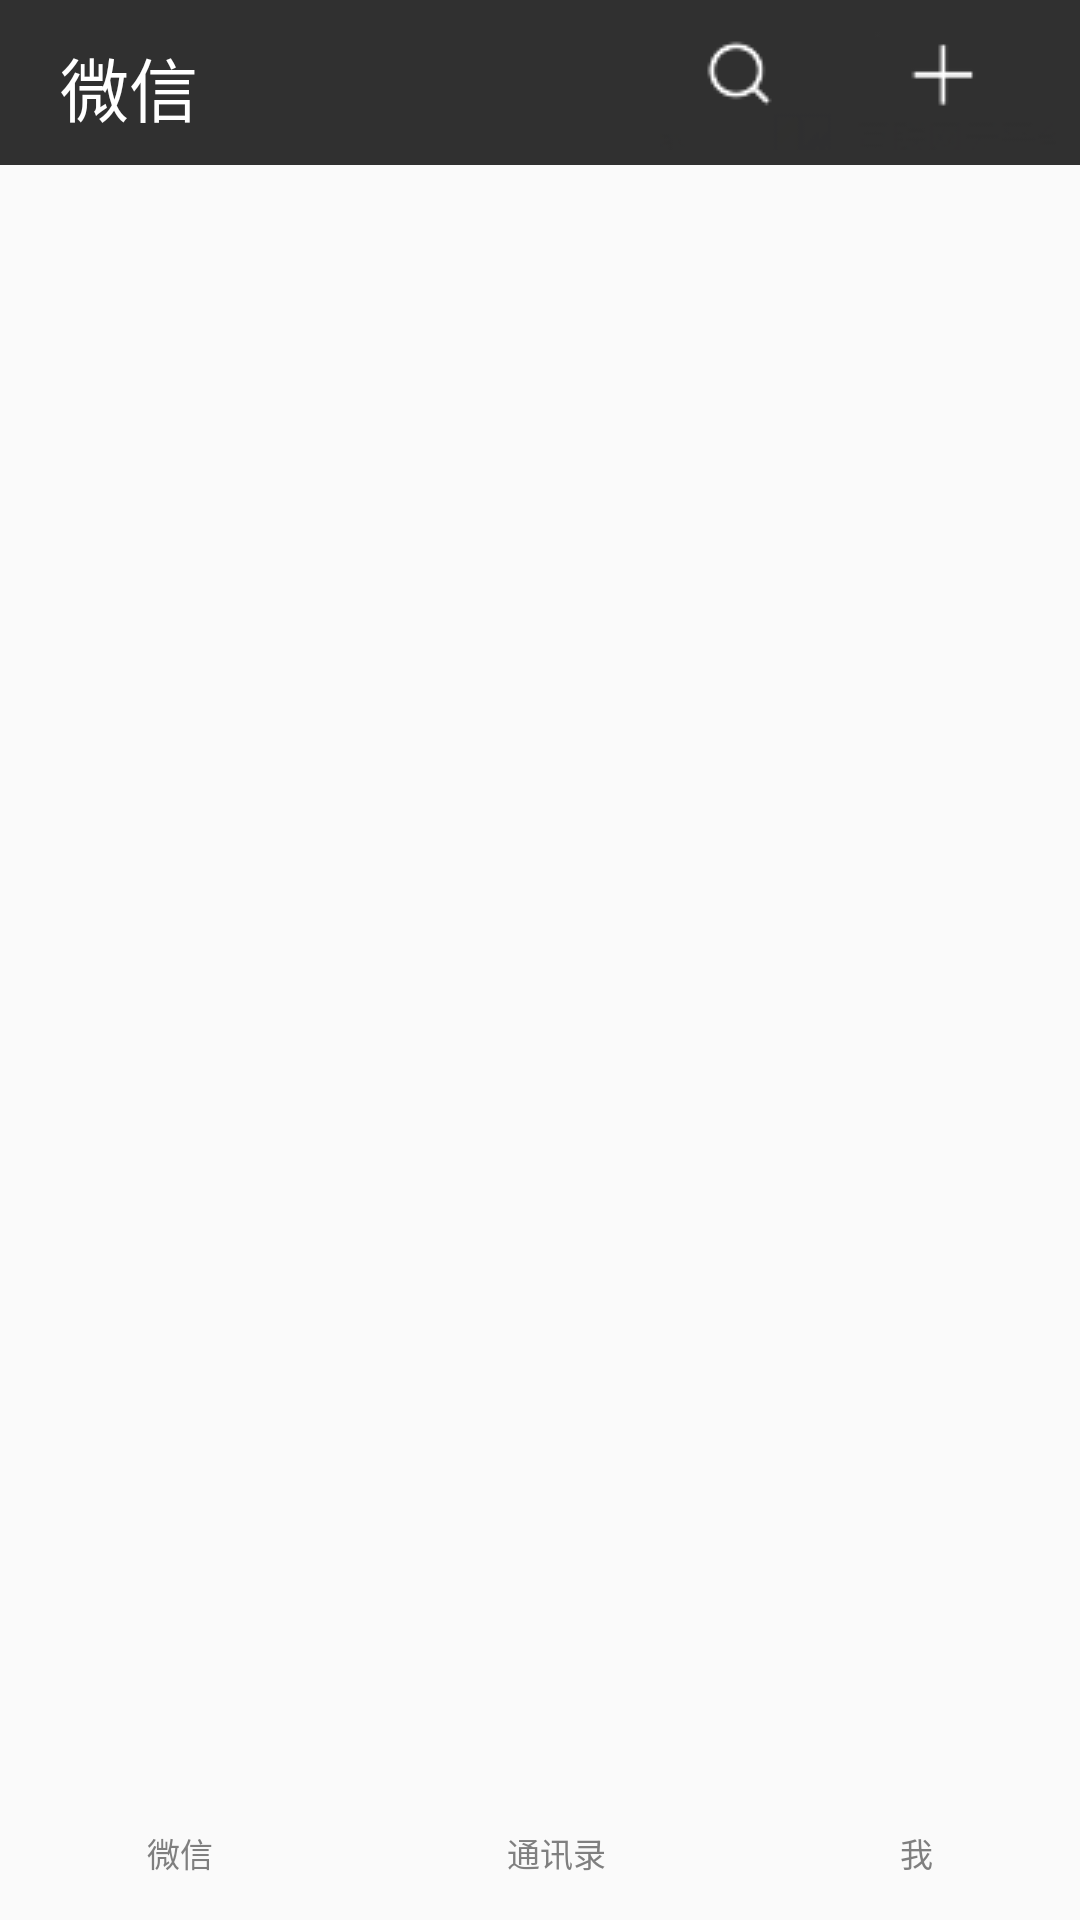

Icon click points for this 1080px x 1920px phone screenshot, format [x,y]:
sousuo: [739,73]
tianjia: [942,75]
